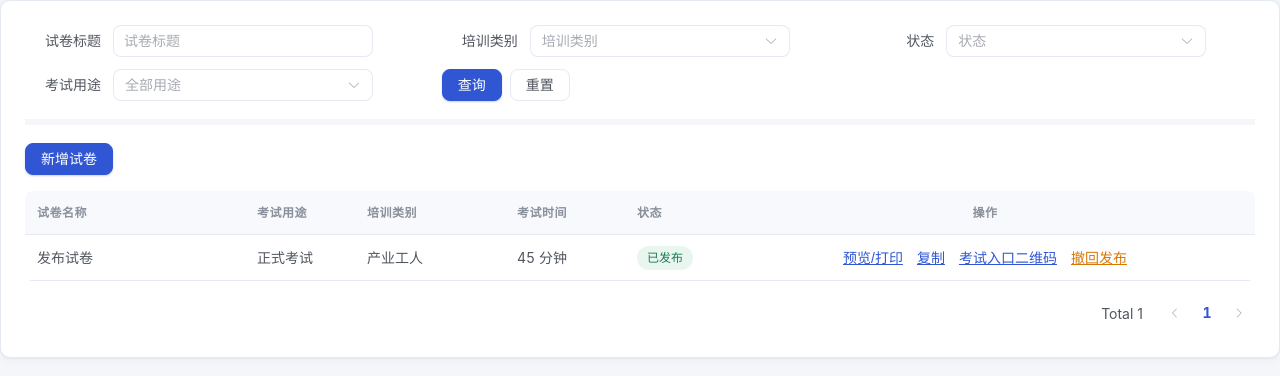
Test case: paper publication withdrawal › returns the withdrawn paper to a real editable draft and restores its management actions
The image size is (1280, 376).
Click the button "撤回发布": (1099, 258) [1067,249,1131,267]
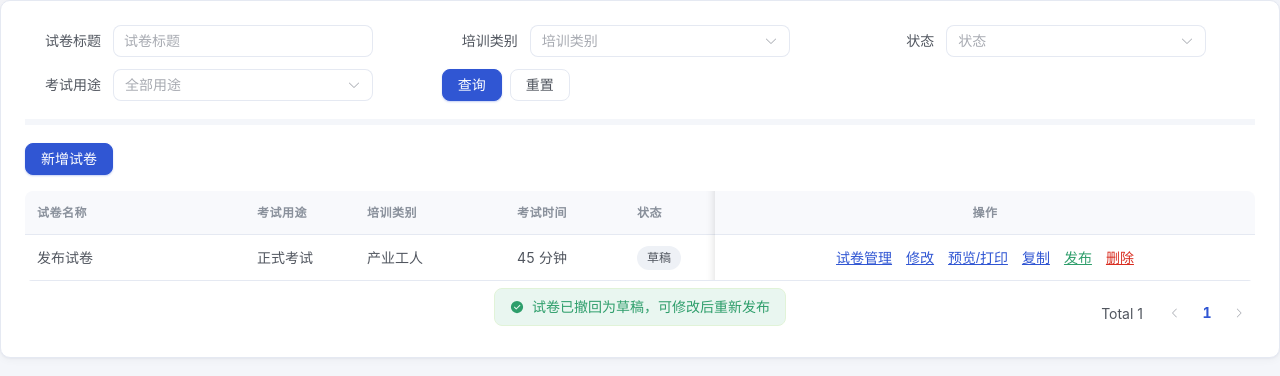
expect the element showing "草稿" is shown: met, box [637,246,681,270]
